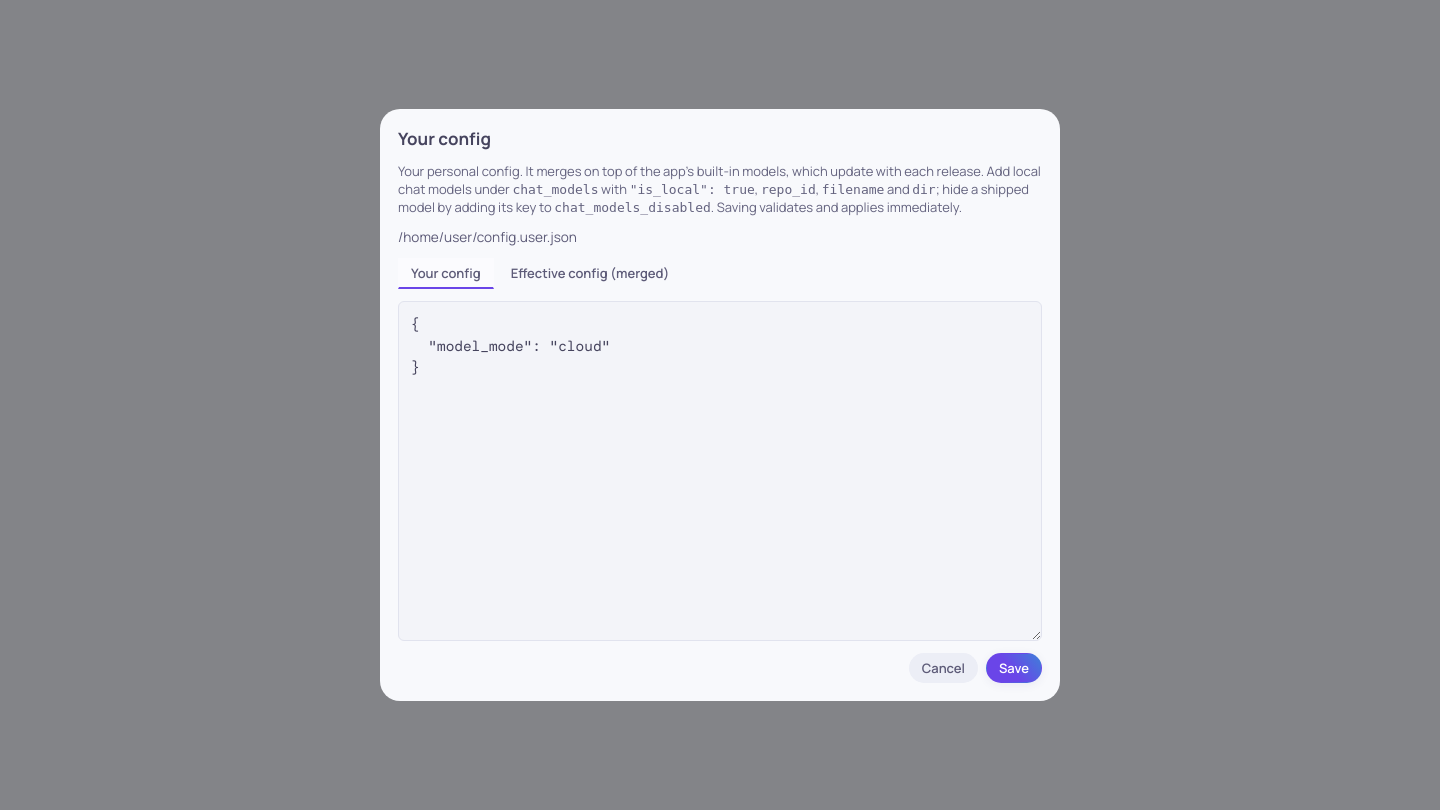
Test: ConfigEditorDialog › renders every server validation problem as a list and stays open
Expected: the text box named "Your config contents" is shown, x1=398 y1=301 x2=1042 y2=641
Click the button "Save": (1014, 668) x1=986 y1=653 x2=1042 y2=683
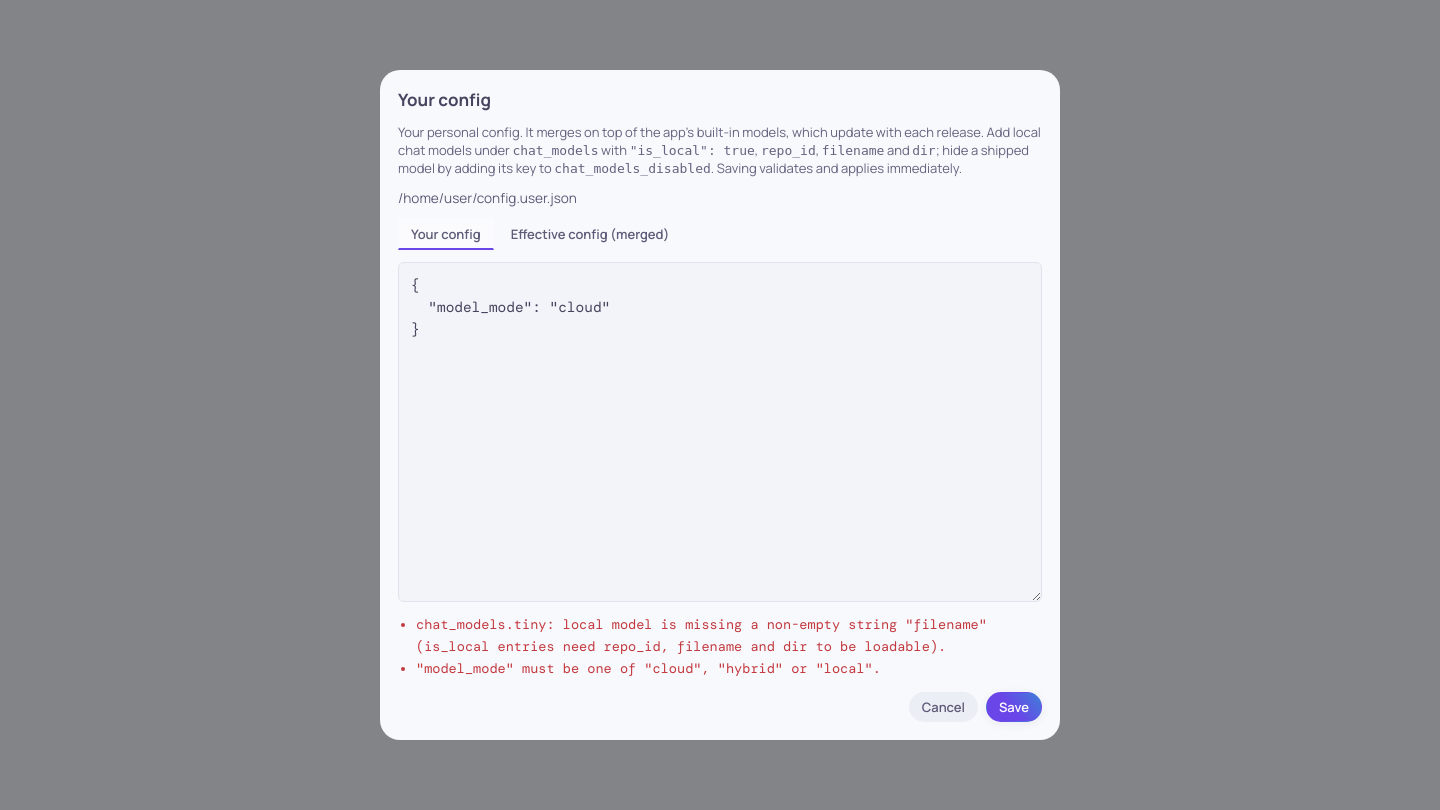
Now the number of list items is 2, box x1=416 y1=614 x2=1042 y2=658; x1=416 y1=660 x2=881 y2=677
Now the 1st list item shows "chat_models.tiny", box x1=416 y1=616 x2=987 y2=655
Now the list item "\"model_mode\" must be one of \"cloud\", \"hybrid\" or \"local\"." shows "\"model_mode\"", box x1=416 y1=660 x2=881 y2=677
